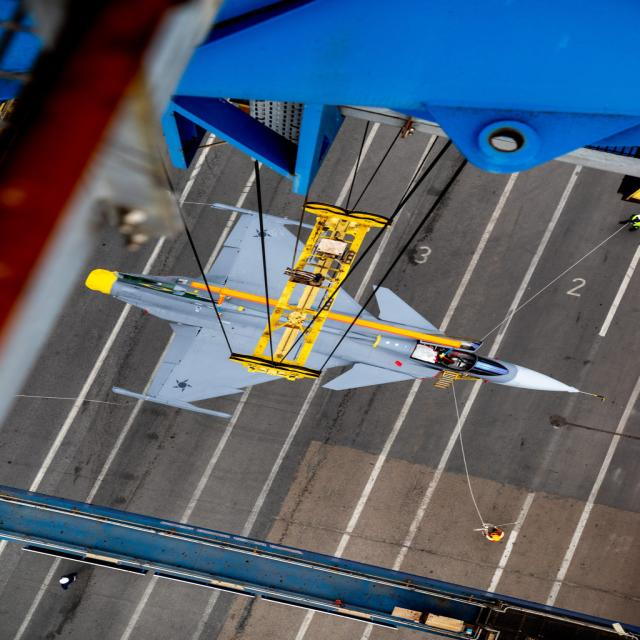MIL_Plane: (85, 203, 604, 418)
